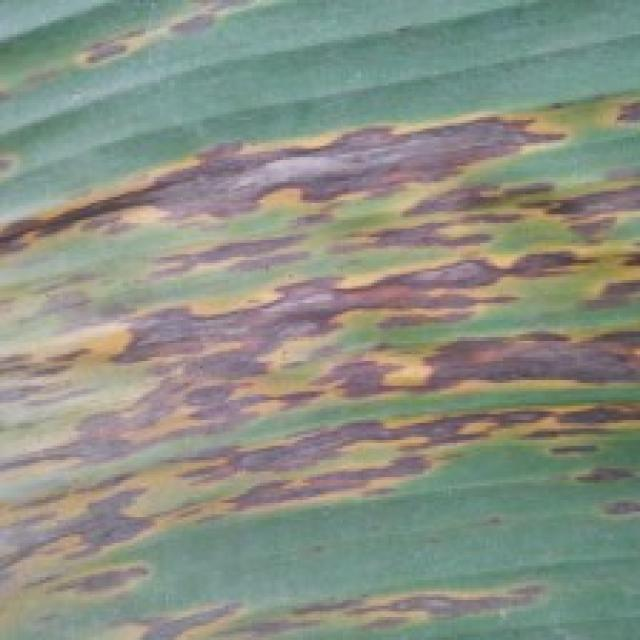Early_leaf_spot: (0, 91, 640, 640), (3, 0, 232, 109), (0, 115, 35, 198)
